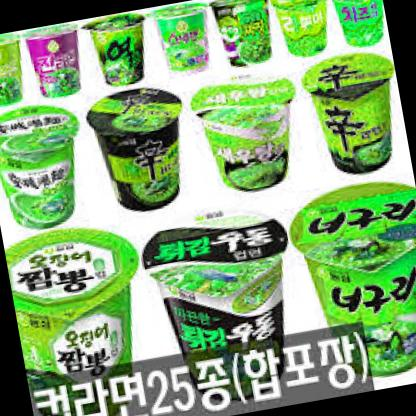Ramen: (135, 190, 310, 408), (1, 214, 159, 416), (283, 165, 416, 385), (183, 57, 315, 199), (78, 74, 200, 216), (301, 42, 410, 171), (0, 95, 94, 235), (16, 19, 96, 102), (84, 8, 158, 92), (150, 0, 220, 84), (210, 0, 285, 73), (270, 0, 336, 60), (327, 0, 389, 48), (0, 31, 28, 110)
